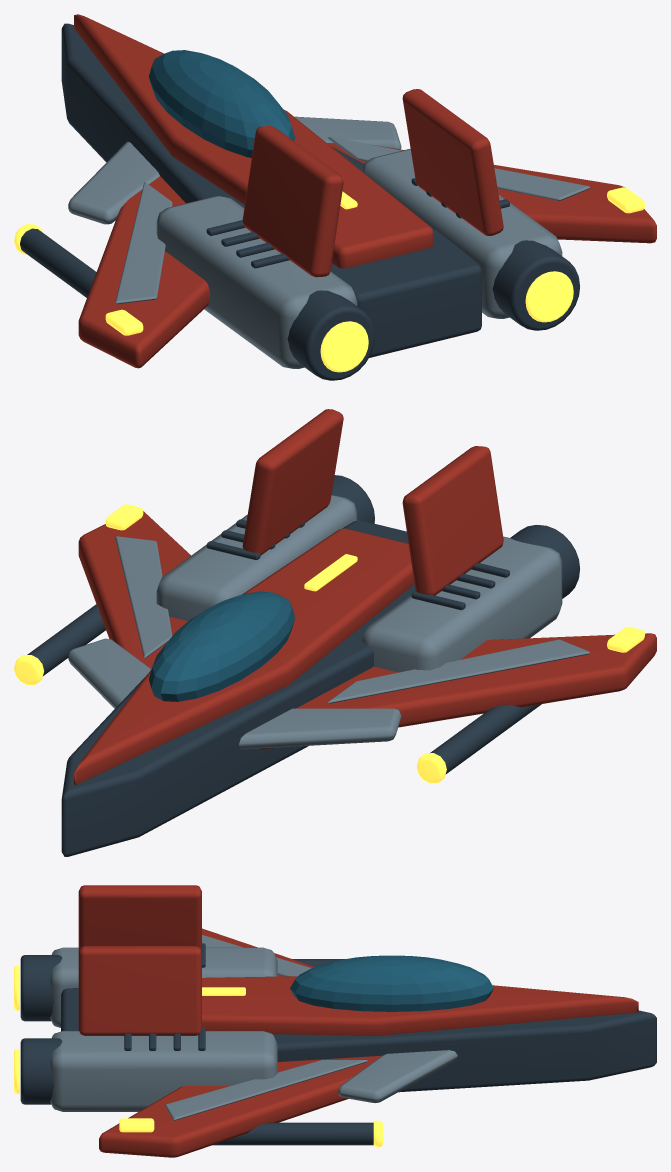
Rendered from Interceptor.fbx.
3 views of the same model, one above another, from view 1: azimuth 30°, elevation 25°; view 2: azimuth 150°, elevation 25°; view 3: azimuth 270°, elevation 25° (orthographic). The views are drawn at different scales.
Visible parts, largest first — view 1: Tapered titanium fuselage, Upper ceramic spine, Engine nacelle, Vertical stabilizer, Swept main wing, Smoked canopy, Vertical stabilizer.001, Engine nacelle.001, Swept main wing.001, Exhaust shroud.001, Exhaust shroud, Forward canard (+8 smaller); view 2: Tapered titanium fuselage, Upper ceramic spine, Engine nacelle, Swept main wing, Vertical stabilizer, Smoked canopy, Vertical stabilizer.001, Engine nacelle.001, Swept main wing.001, Forward canard, Wing accent, Wing accent.001 (+10 smaller); view 3: Tapered titanium fuselage, Engine nacelle.001, Upper ceramic spine, Vertical stabilizer.001, Swept main wing.001, Smoked canopy, Vertical stabilizer, Engine nacelle, Forward canard.001, Wing cannon.001, Wing accent.001, Exhaust shroud.001 (+4 smaller).
Boxes of the visible parts, <box> form: Tapered titanium fuselage: <box>61,23,481,357</box>; Upper ceramic spine: <box>74,14,433,268</box>; Engine nacelle: <box>156,196,357,368</box>; Vertical stabilizer: <box>242,126,343,277</box>; Swept main wing: <box>78,176,209,368</box>; Smoked canopy: <box>148,50,295,157</box>; Vertical stabilizer.001: <box>402,89,503,235</box>; Engine nacelle.001: <box>362,148,562,318</box>; Swept main wing.001: <box>327,143,656,243</box>; Exhaust shroud.001: <box>492,240,579,330</box>; Exhaust shroud: <box>287,290,374,380</box>; Forward canard: <box>68,141,159,224</box>; Tapered titanium fuselage: <box>61,520,415,856</box>; Upper ceramic spine: <box>74,528,414,784</box>; Engine nacelle: <box>361,536,562,672</box>; Swept main wing: <box>261,633,656,749</box>; Vertical stabilizer: <box>402,446,503,595</box>; Smoked canopy: <box>149,591,295,701</box>; Vertical stabilizer.001: <box>242,409,343,555</box>; Engine nacelle.001: <box>156,495,357,621</box>; Swept main wing.001: <box>78,511,190,668</box>; Forward canard: <box>239,708,401,749</box>; Wing accent: <box>328,639,589,703</box>; Wing accent.001: <box>115,536,172,658</box>; Tapered titanium fuselage: <box>61,988,656,1092</box>; Engine nacelle.001: <box>50,1031,277,1111</box>; Upper ceramic spine: <box>202,976,638,1035</box>; Vertical stabilizer.001: <box>78,946,201,1035</box>; Swept main wing.001: <box>99,1055,381,1157</box>; Smoked canopy: <box>290,955,493,1011</box>; Vertical stabilizer: <box>78,885,201,951</box>; Engine nacelle: <box>50,947,277,1027</box>; Forward canard.001: <box>338,1050,457,1103</box>; Wing cannon.001: <box>213,1122,373,1145</box>; Wing accent.001: <box>165,1060,367,1120</box>; Exhaust shroud.001: <box>20,1038,62,1104</box>.
Size of the model in its own units: 299 by 94.7 by 365.
